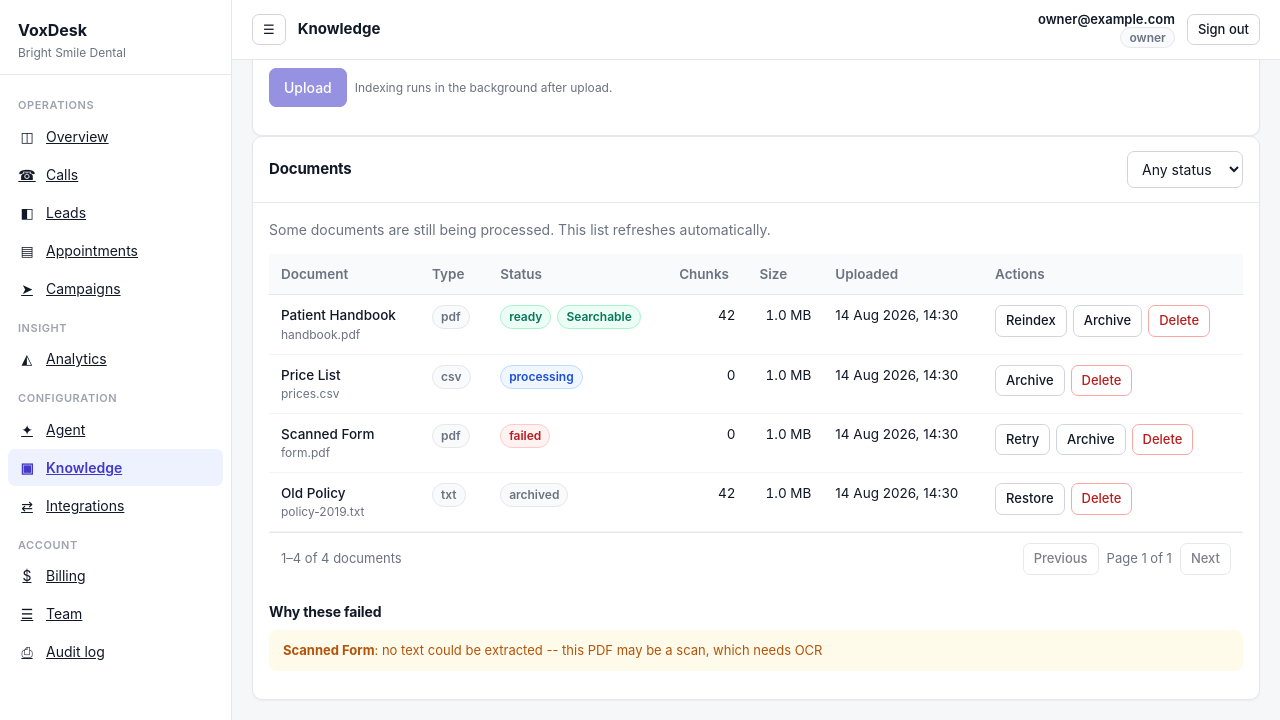
Test: row actions match backend semantics › reindexes through the real endpoint and refreshes
The image size is (1280, 720).
(page scrolled)
Step 1. Click the button "Retry" → [1023, 440], box [995,424,1050,455]
(page scrolled)
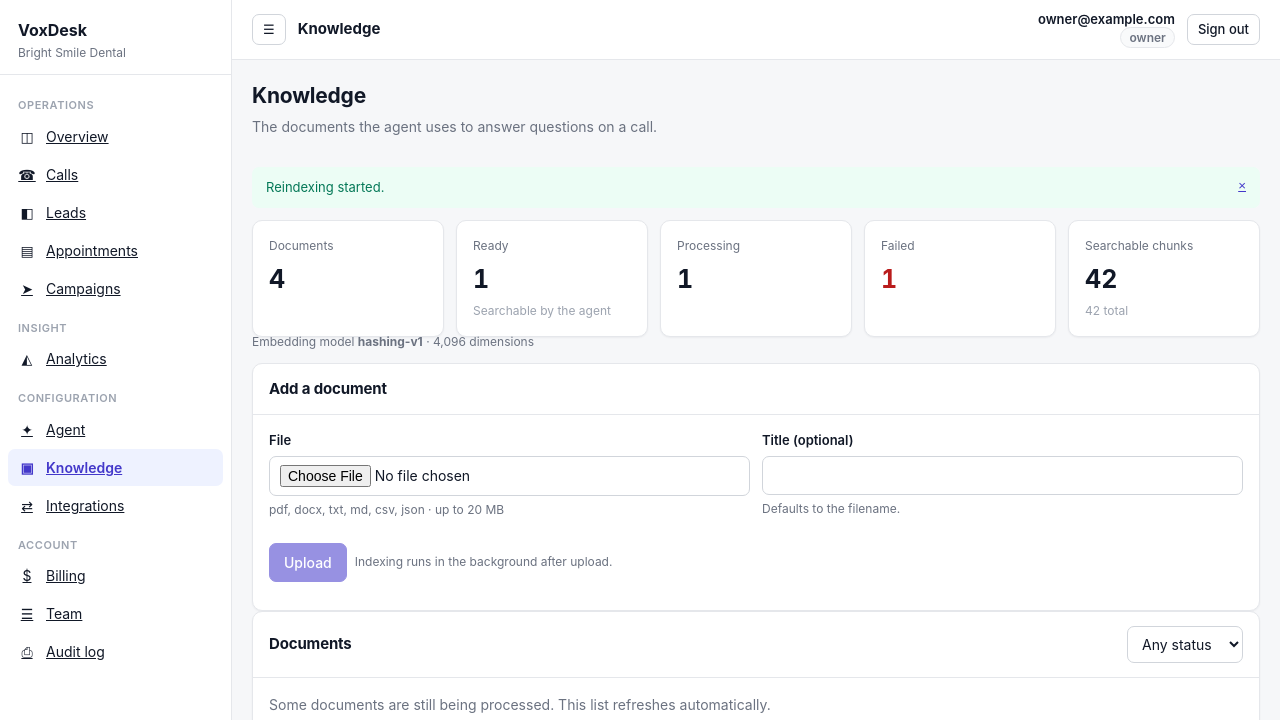
Now the text "Reindexing started." is shown, box [266,178,384,194]
